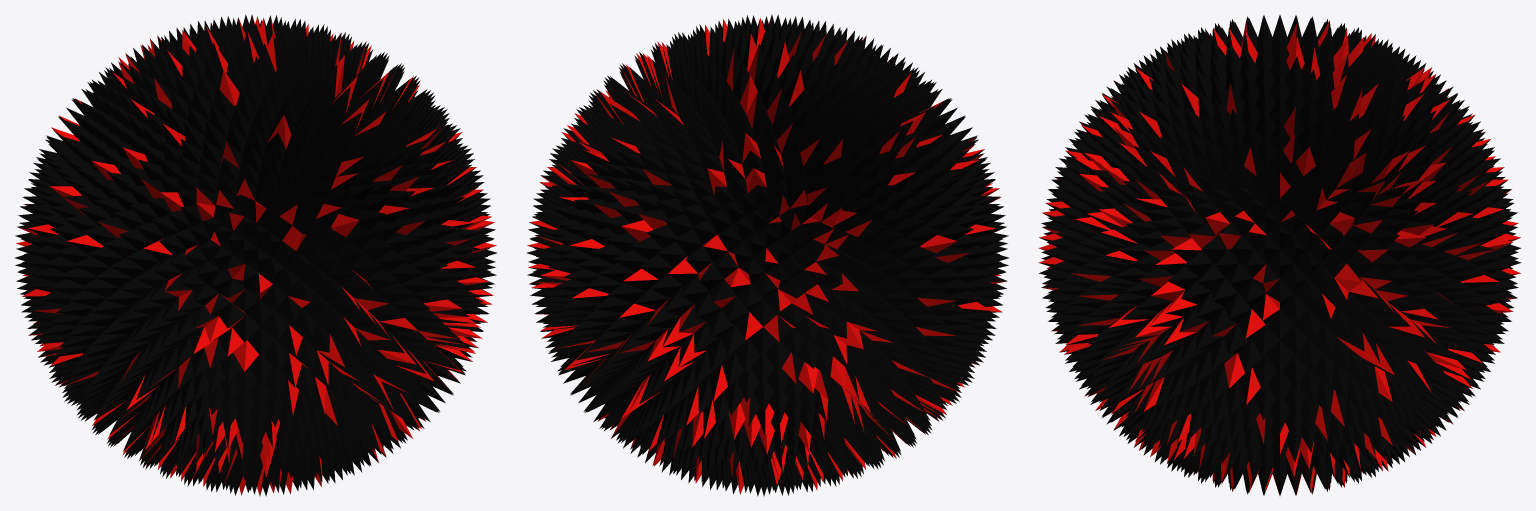
File: SpikeBall.fbx
3 renders of one model, left to right at view 1: azimuth 30°, elevation 25°; view 2: azimuth 150°, elevation 25°; view 3: azimuth 270°, elevation 25°, orthographic.
Visible parts, largest first — view 1: Cube; view 2: Cube; view 3: Cube.
Boxes of the visible parts, x1,y1,x2,y2 form: Cube: (15,14,496,496); Cube: (527,14,1008,496); Cube: (1038,15,1521,495).
Bounding box in the file's own units: 355 × 355 × 355.
